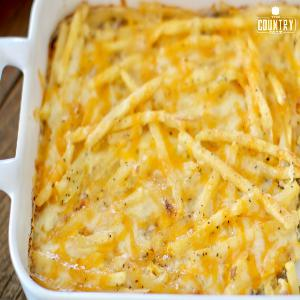fries_350cal: (50, 15, 300, 292)
